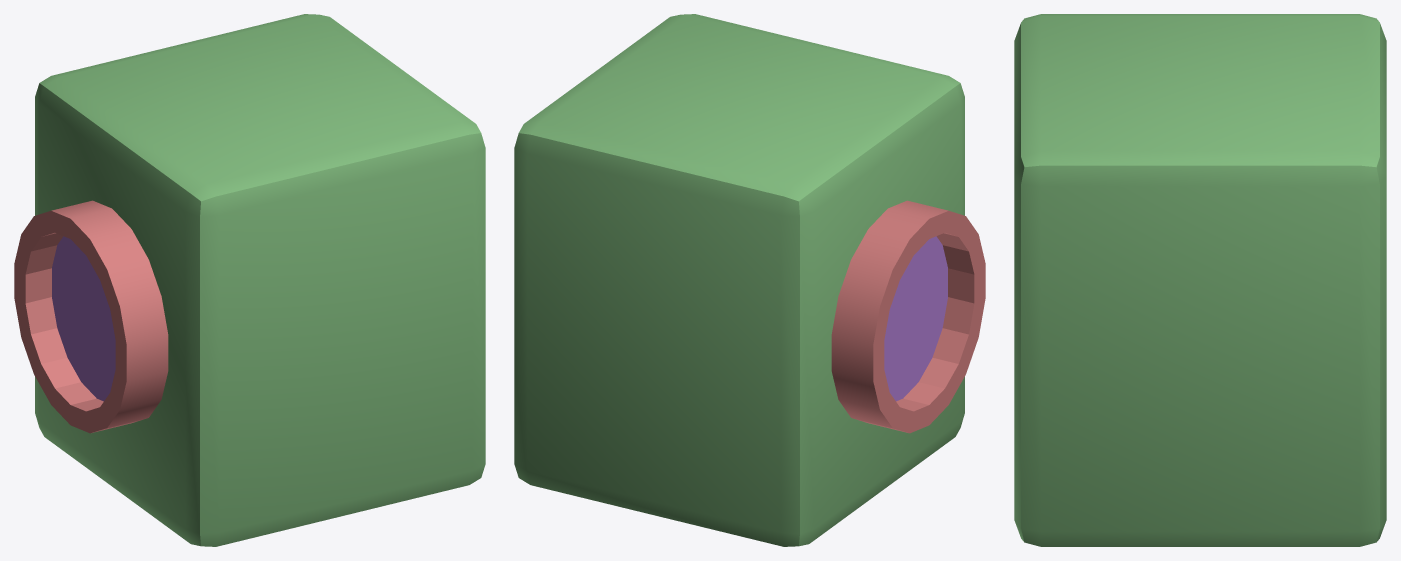
The model's file is MachineLaver.fbx.
3 renders of one model, left to right at view 1: azimuth 30°, elevation 25°; view 2: azimuth 150°, elevation 25°; view 3: azimuth 270°, elevation 25°, orthographic. The views are drawn at different scales.
Visible parts, largest first — view 1: Boîte001; view 2: Boîte001; view 3: Boîte001.
Part boxes in pixels (bbox=[...]): Boîte001: bbox=[14, 14, 485, 546]; Boîte001: bbox=[514, 14, 985, 546]; Boîte001: bbox=[1014, 14, 1386, 546].
Size of the model in its own units: 34.21 by 35 by 30.
